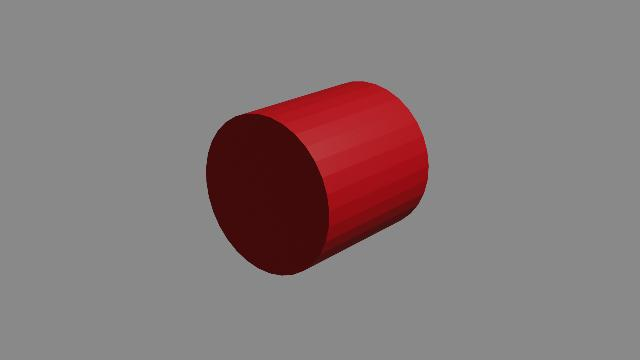Cylinder: (201, 67, 437, 287)
